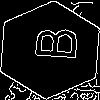B: (25, 25, 78, 61)
